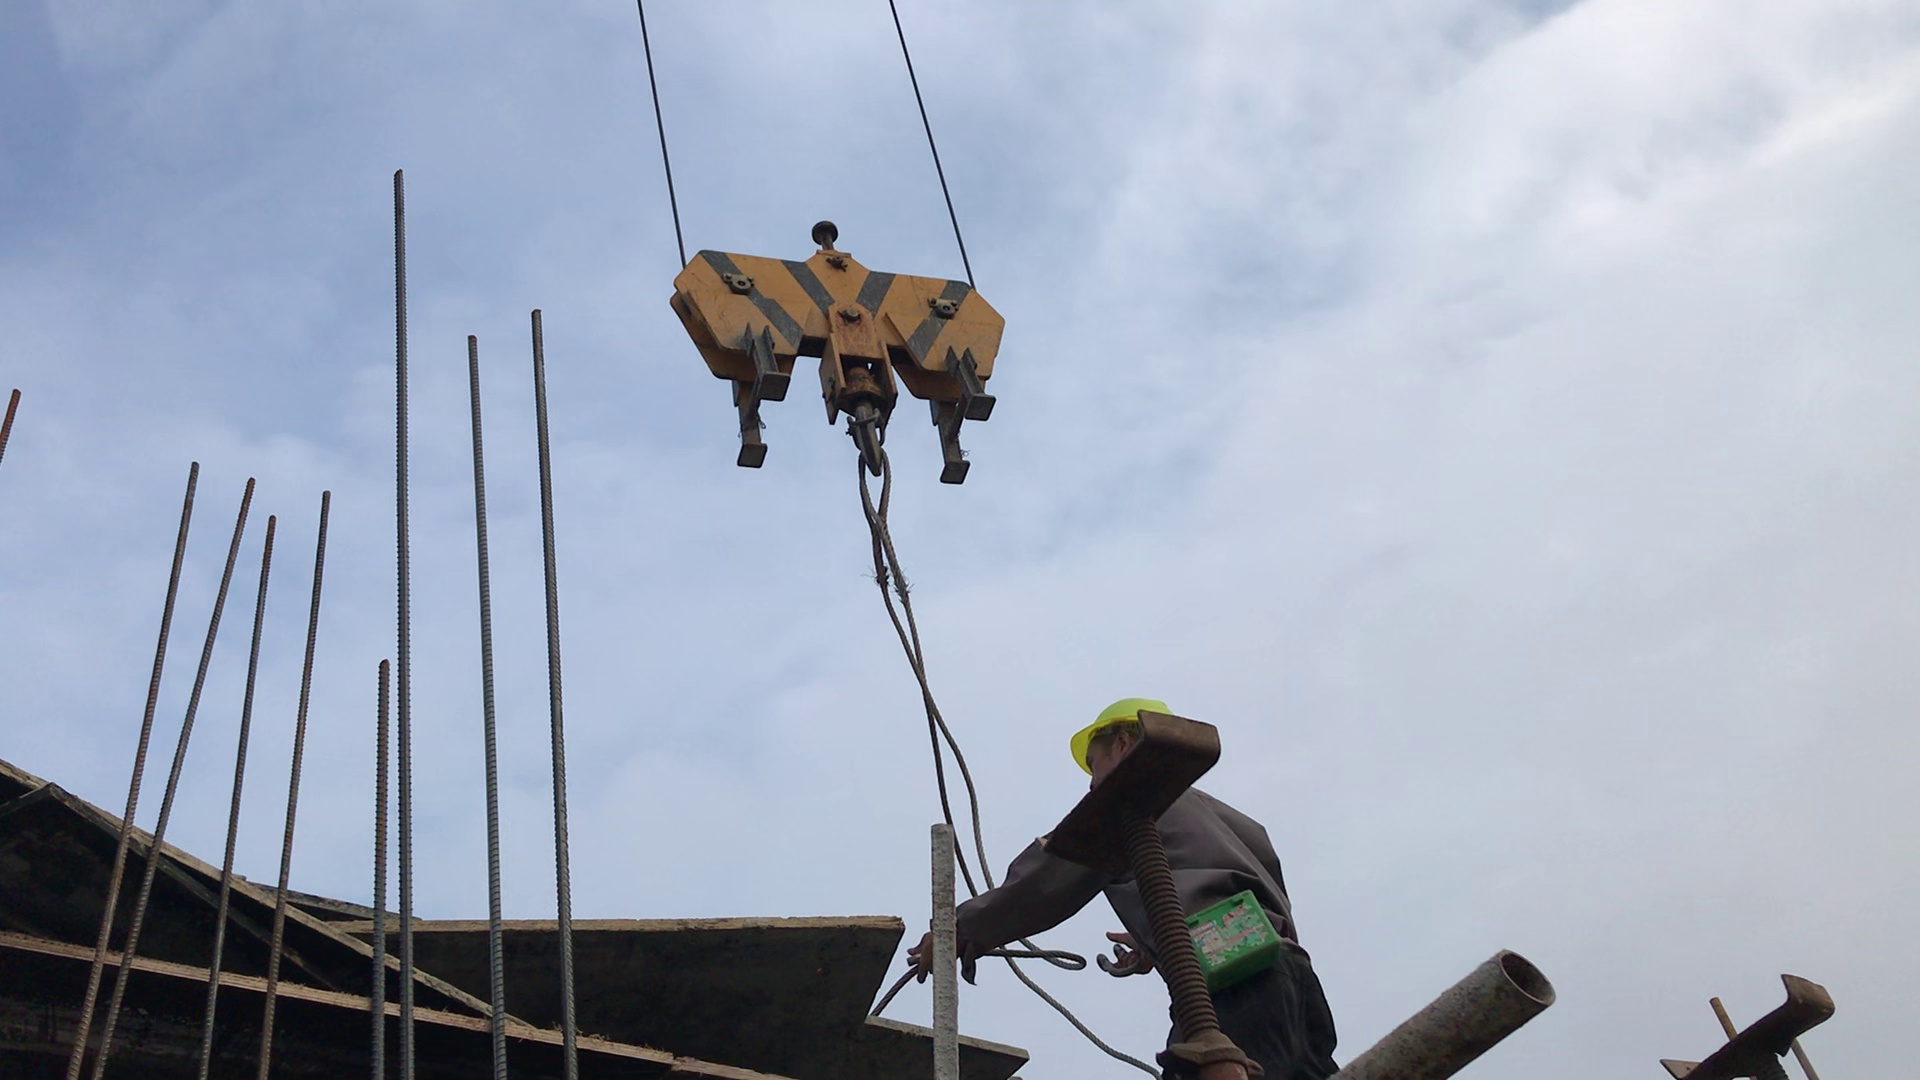helmet: (1050, 683, 1181, 770)
hook: (647, 201, 1042, 520)
person: (990, 682, 1341, 1080)
rebar: (66, 172, 613, 1074)
